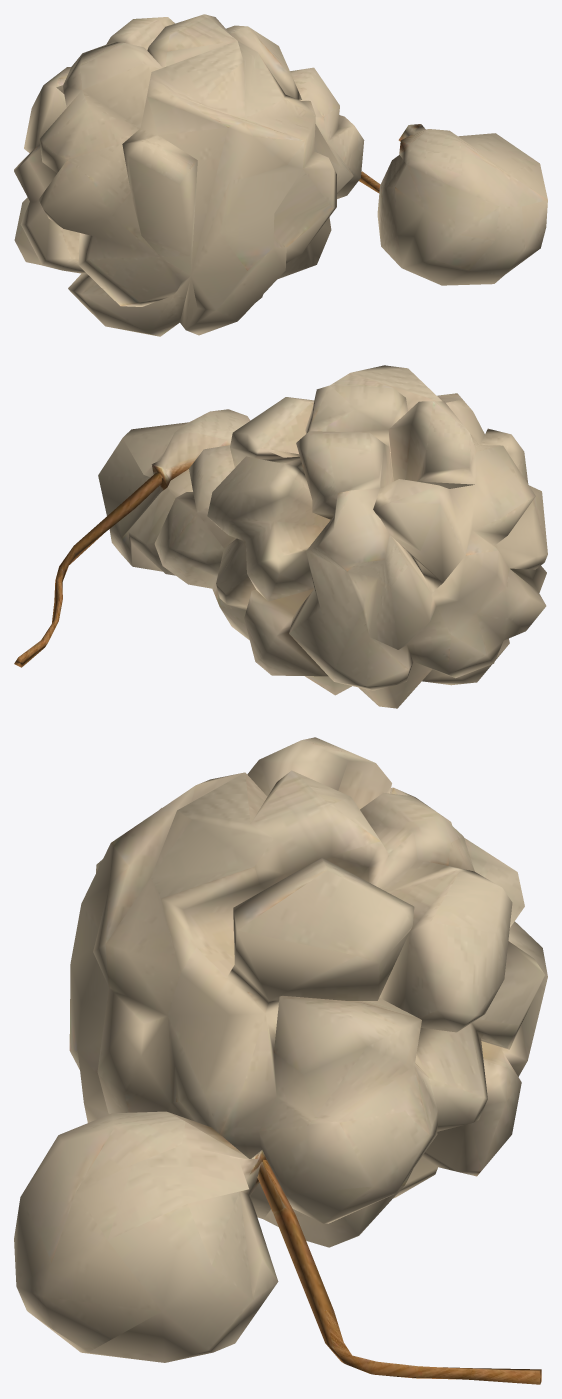
The model's file is res-wool.glb.
3 views of the same model, one above another, from view 1: azimuth 30°, elevation 25°; view 2: azimuth 150°, elevation 25°; view 3: azimuth 270°, elevation 25° (orthographic). The views are drawn at different scales.
Bounding box in the file's own units: 0.9653 × 0.5527 × 0.646.
1 material, 1 textured.
